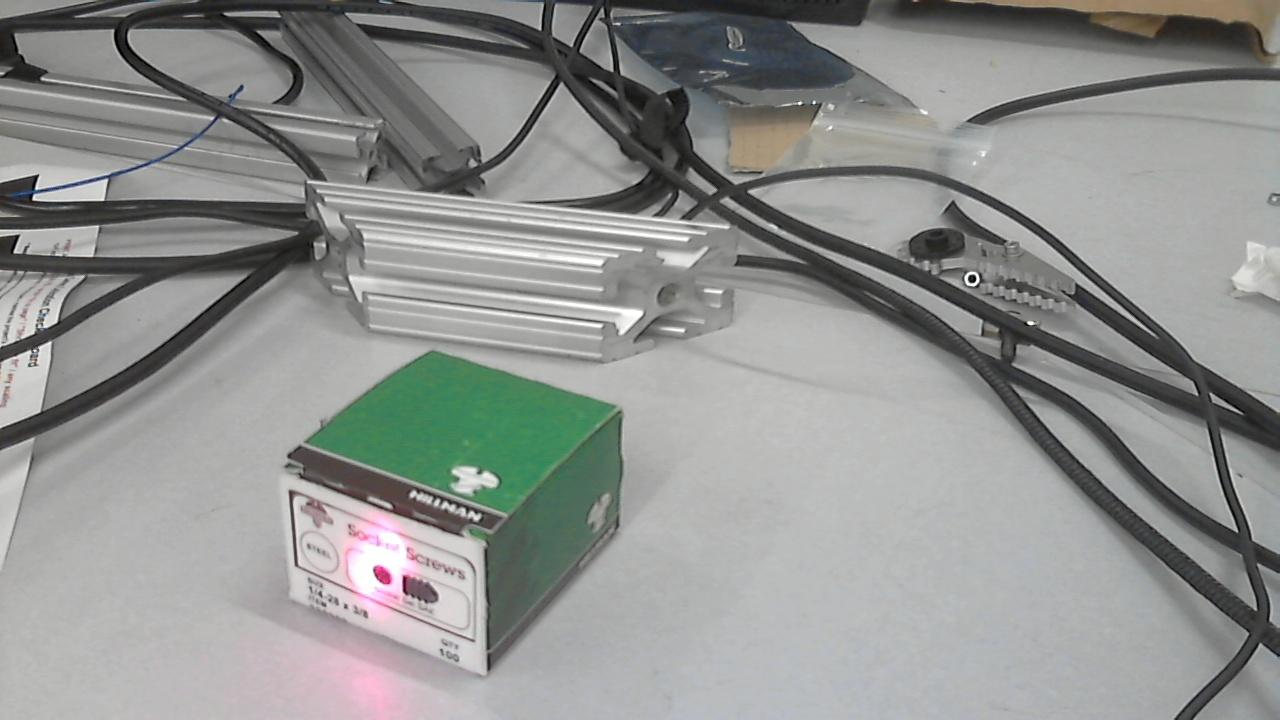Object screw packaging box - Material cardboard - Pdfname VgpKnmoKJfrS: (335, 505, 429, 621)
